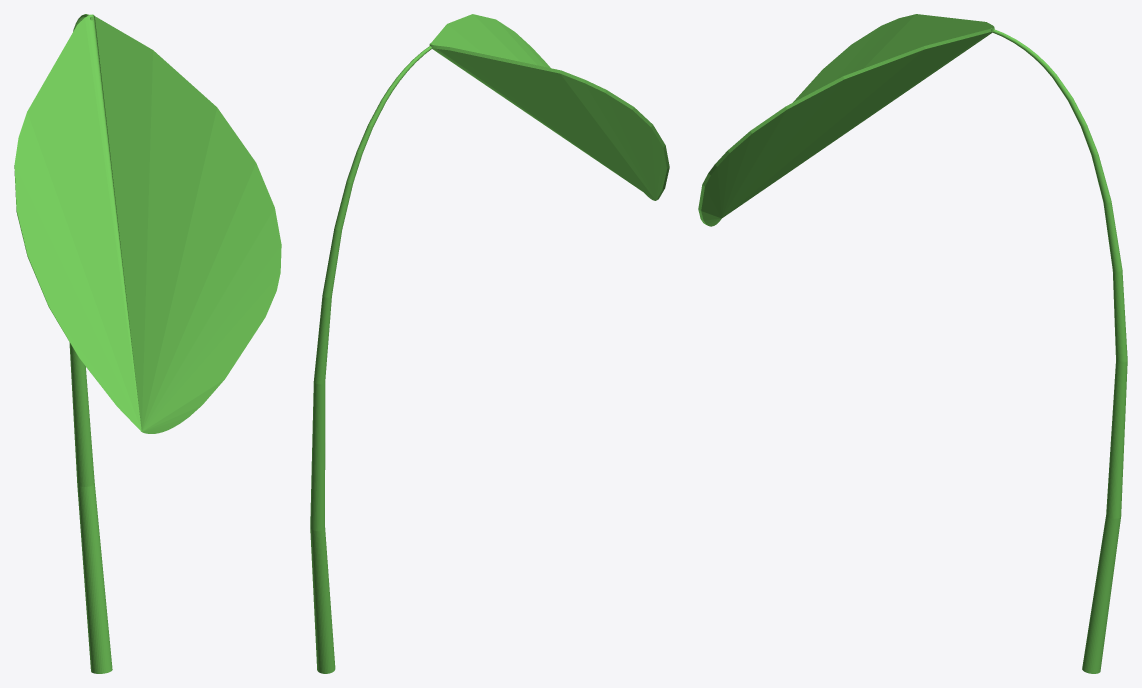
3 views of the same model, side by side, from view 1: azimuth 30°, elevation 25°; view 2: azimuth 150°, elevation 25°; view 3: azimuth 270°, elevation 25° (orthographic). The views are drawn at different scales.
Visible parts, largest first — view 1: Extrude, Sweep; view 2: Extrude, Sweep; view 3: Extrude, Sweep.
Part boxes in pixels (<box>): Extrude: <box>14,14,281,433</box>; Sweep: <box>69,14,112,673</box>; Extrude: <box>429,14,669,200</box>; Sweep: <box>310,44,433,673</box>; Extrude: <box>698,14,994,226</box>; Sweep: <box>991,28,1127,673</box>.
Bounding box in the file's own units: 205 × 583 × 369.
